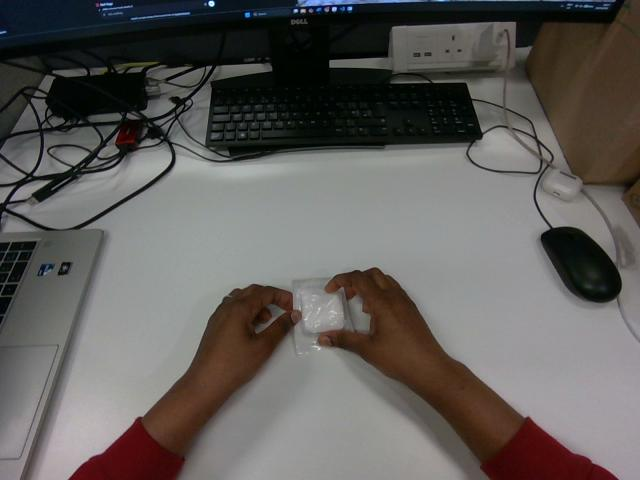gauze: (292, 278, 352, 353)
